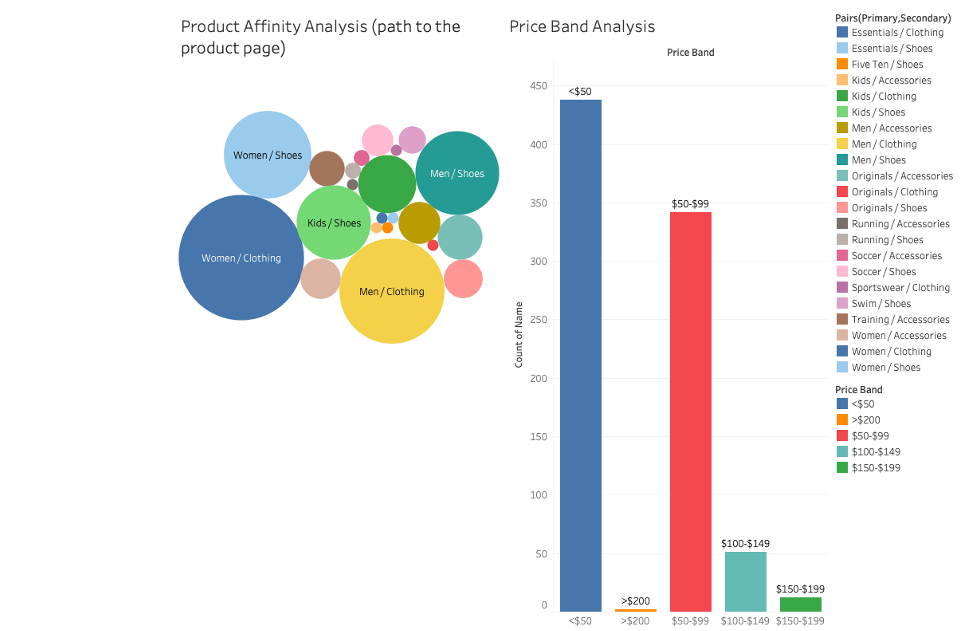

This screenshot's page, from the dashboard's own definition file:
{"tool":"tableau","page":{"name":"Product Affinity and Price Range","canvas":[1000,800],"ordinal":0},"visuals":[{"type":"worksheet","title":"Product Affinity Analysis","mark":"Circle","box":[8,8,412,784]},{"type":"worksheet","title":"Price Band Analysis","mark":"Automatic","rows":["name"],"cols":["Calculation_86975813687525387"],"box":[420,8,412,784]},{"type":"legend","title":"Product Affinity Analysis","param":"[federated.1pnpzbg0f21ytk16soupk0bmw4ft].[none:Calculation_86975813679509514:nk]","box":[832,8,160,466]},{"type":"legend","title":"Price Band Analysis","param":"[federated.1pnpzbg0f21ytk16soupk0bmw4ft].[none:Calculation_86975813687525387:nk]","box":[832,474,160,126]}]}

Visuals, with their boxes on the page's 1000x800 design canvas (x1, y1, x2, y2). These are canvas units, not pixel positions in the 961x631 screenshot, which may show the page scaled, cropped or inside an application window:
"Product Affinity Analysis" worksheet (Circle marks): x1=8 y1=8 x2=420 y2=792
"Price Band Analysis" worksheet: x1=420 y1=8 x2=832 y2=792
"Product Affinity Analysis" legend: x1=832 y1=8 x2=992 y2=474
"Price Band Analysis" legend: x1=832 y1=474 x2=992 y2=600
